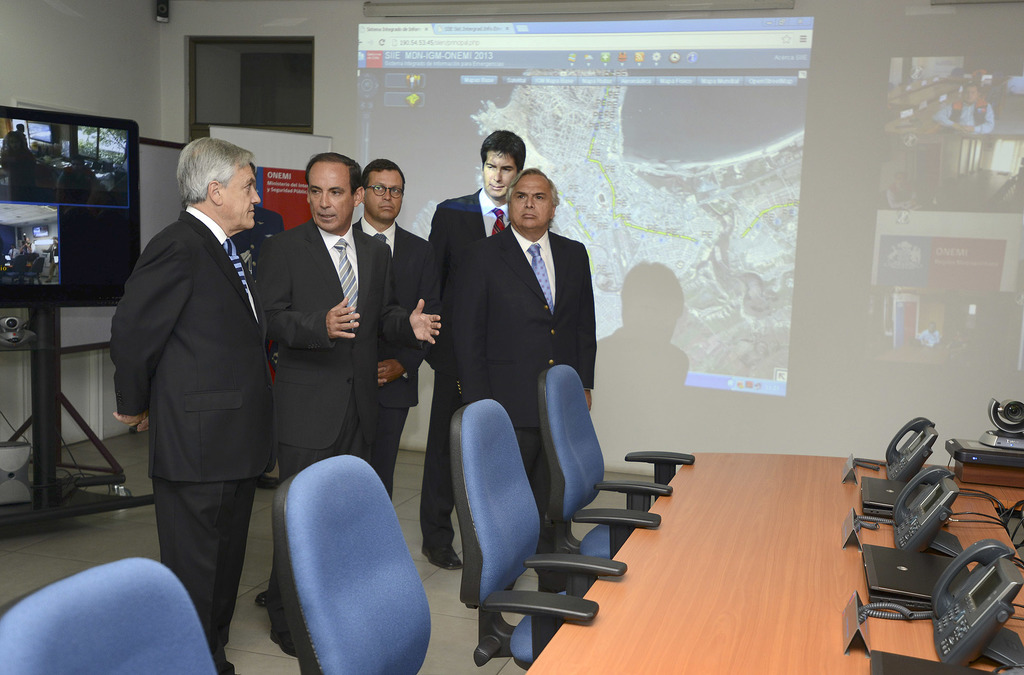Chair: (446, 396, 628, 673), (271, 453, 431, 674), (535, 363, 696, 562), (0, 556, 220, 674)
